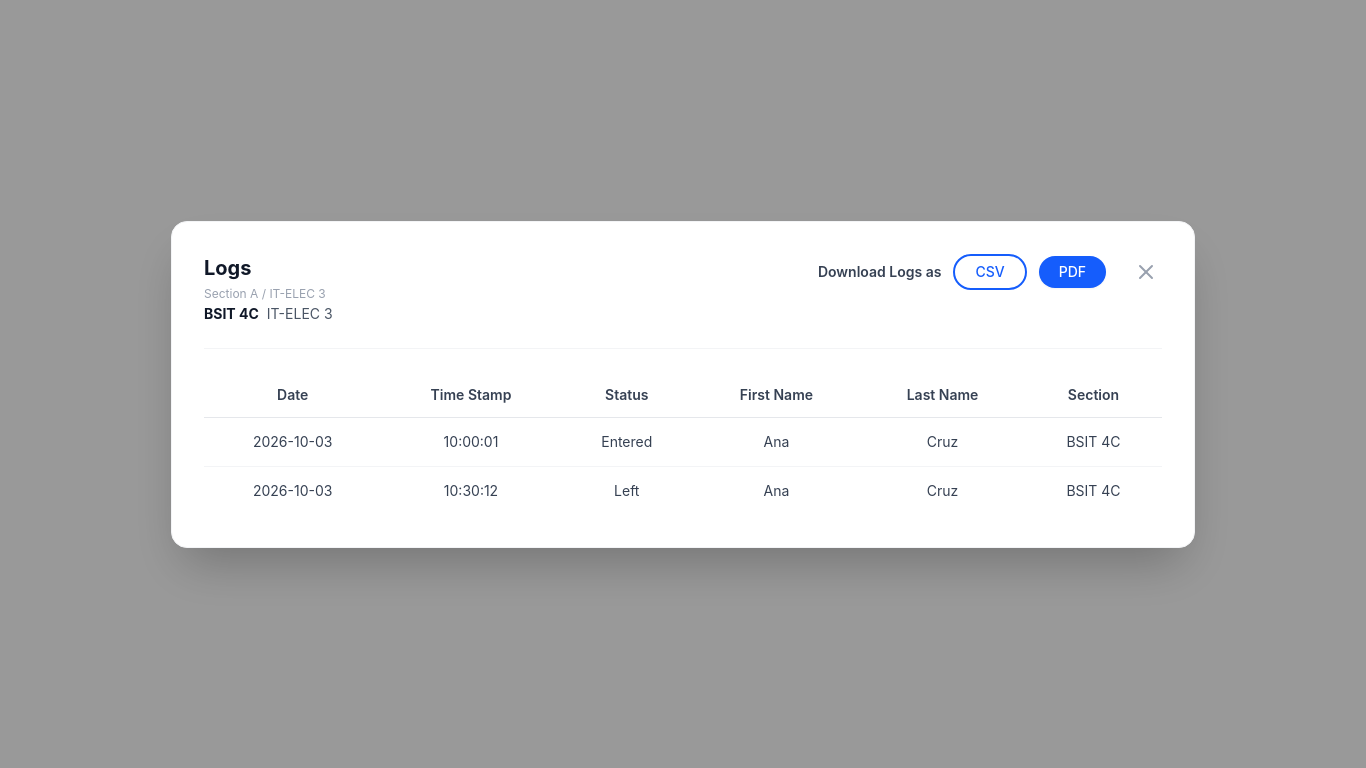
Test: Logs modal › download state and errors › clears a previous error when the next download starts
Click the button "CSV".
click(990, 272)  # box [953,254,1027,290]
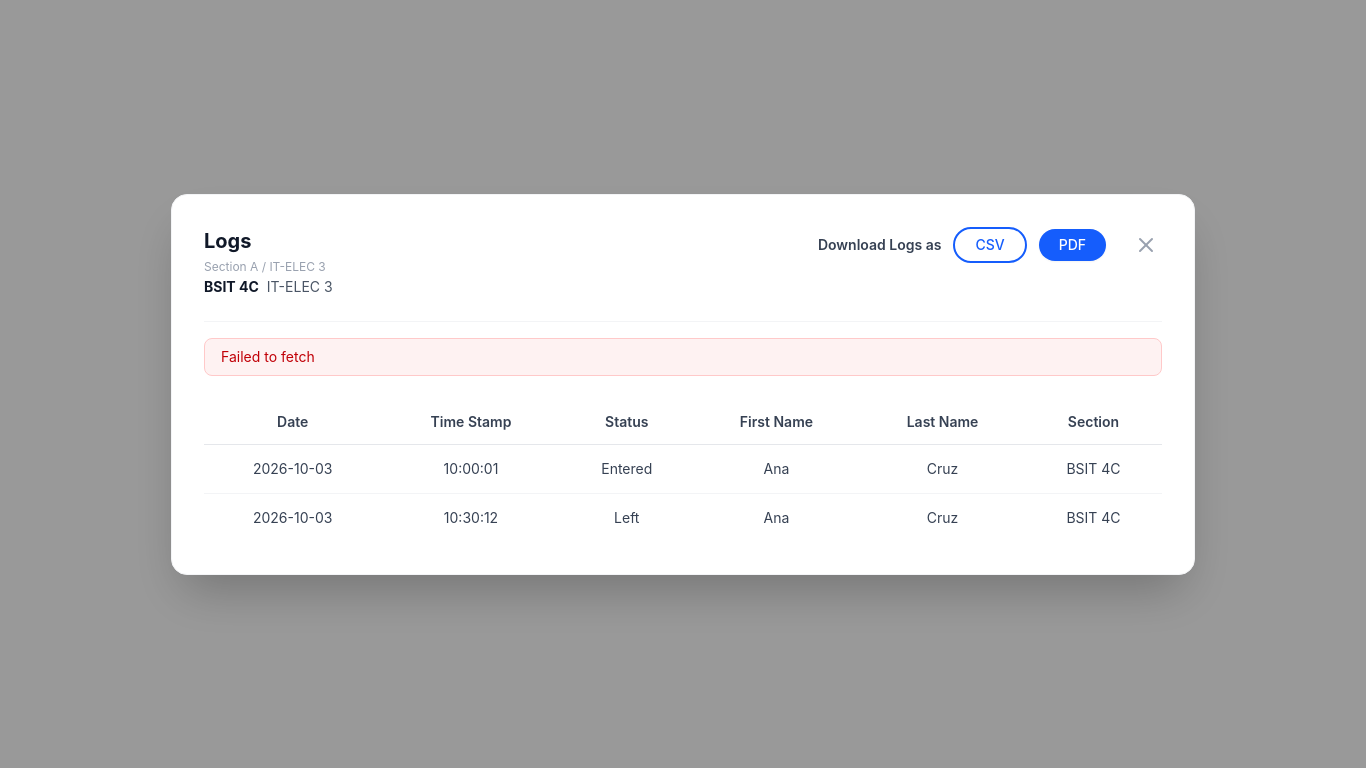
Expected: the text "Failed to fetch" is shown, [204,338,1162,376]
Click the button "CSV".
click(990, 244)  # box [953,226,1027,262]
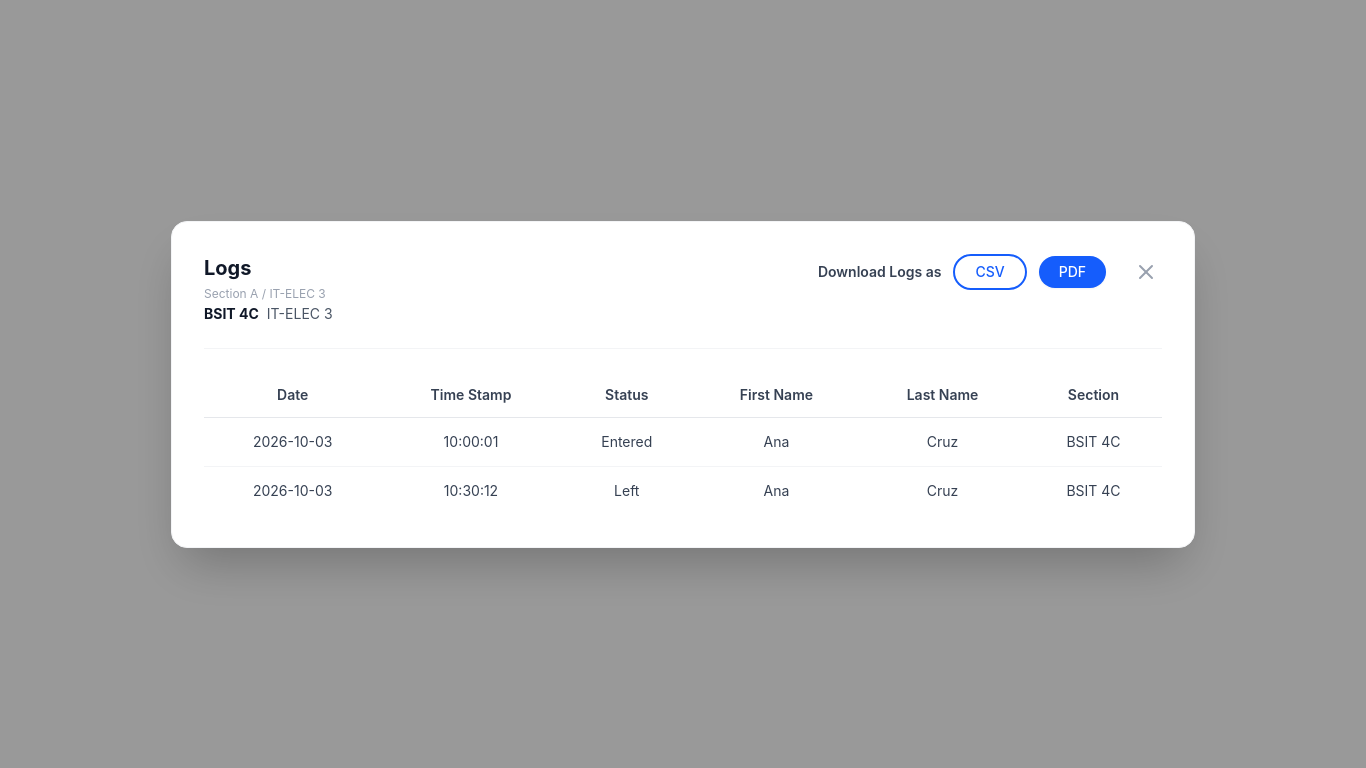
Expected: the text "Failed to fetch" is gone
